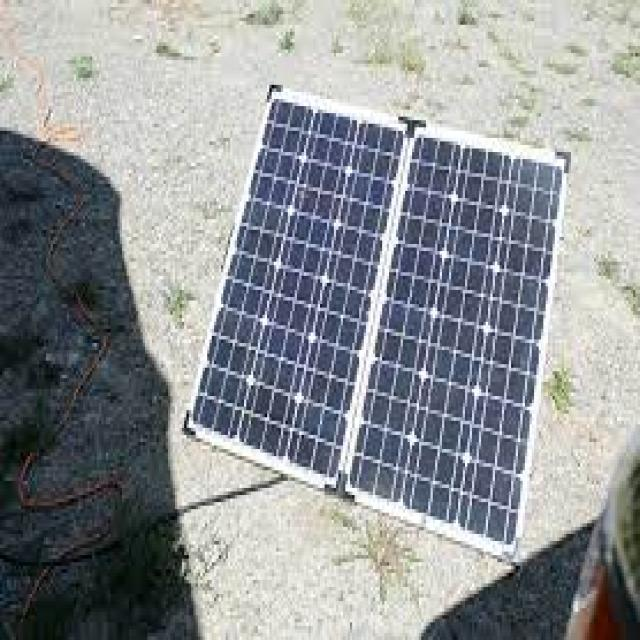no faulty: (346, 135, 566, 550), (190, 100, 404, 481)
